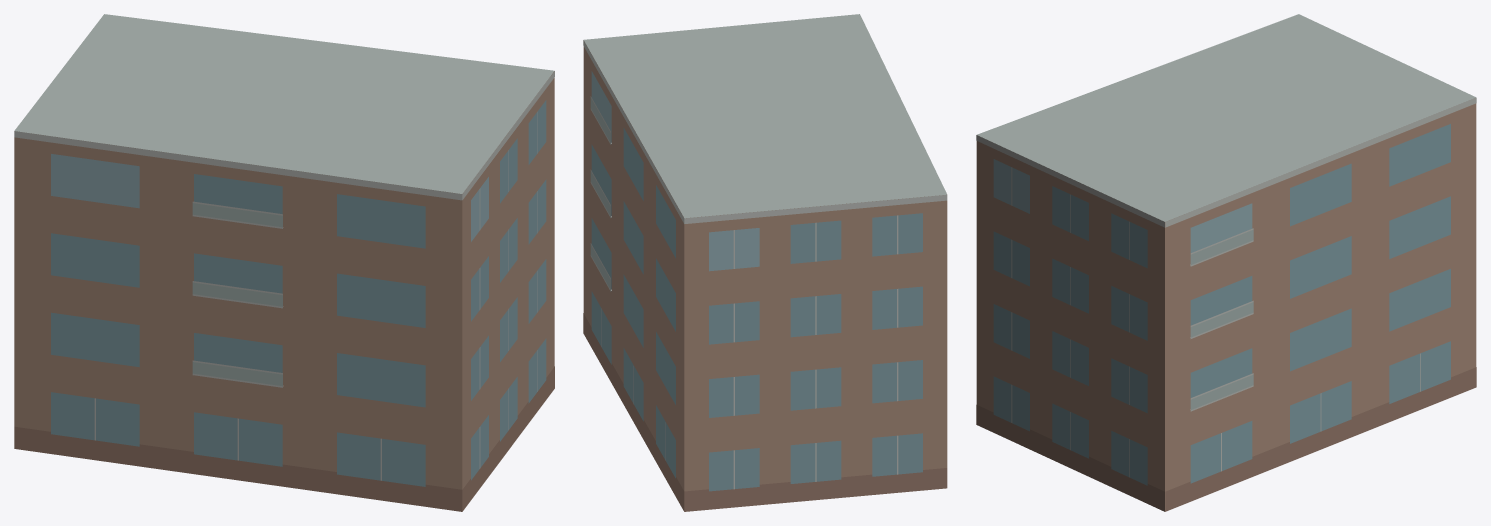
File: survey-upis-32772407.glb
3 renders of one model, left to right at view 1: azimuth 30°, elevation 25°; view 2: azimuth 150°, elevation 25°; view 3: azimuth 270°, elevation 25°, orthographic. The views are drawn at different scales.
Visible parts, largest first — view 1: survey-upis-32772407.tmp; view 2: survey-upis-32772407.tmp; view 3: survey-upis-32772407.tmp.
Boxes of the visible parts, x1,y1,x2,y2 form: survey-upis-32772407.tmp: [14, 14, 554, 511]; survey-upis-32772407.tmp: [583, 14, 947, 511]; survey-upis-32772407.tmp: [976, 14, 1476, 511].
Bounding box in the file's own units: 18.78 × 12.2 × 19.08.
